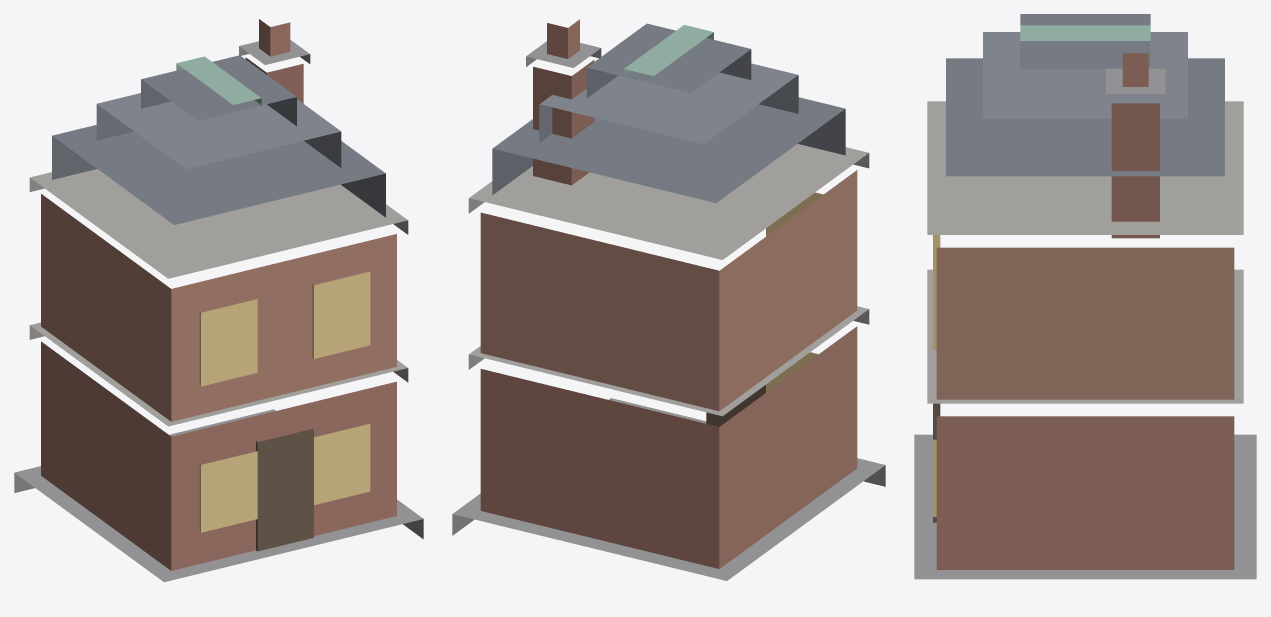
Rendered from house_2x2.glb.
The picture shows the model from 3 angles, left to right: view 1: azimuth 30°, elevation 25°; view 2: azimuth 150°, elevation 25°; view 3: azimuth 270°, elevation 25°; orthographic projection. The views are drawn at different scales.
Parts seen in each view (by area): view 1: Brick_Terracotta_Upper, Brick_Terracotta_Lower, Roof_SlateDark, Stone_Curb, Emissive_GasWindow, Roof_SlateMid, Stone_Plinth, Timber_DarkOak, Metal_VerdigrisCopper, Brick_Chimney; view 2: Brick_Terracotta_Lower, Brick_Terracotta_Upper, Roof_SlateDark, Stone_Curb, Roof_SlateMid, Stone_Plinth, Brick_Chimney, Metal_VerdigrisCopper, Emissive_GasWindow, Timber_DarkOak; view 3: Brick_Terracotta_Lower, Brick_Terracotta_Upper, Stone_Curb, Roof_SlateDark, Roof_SlateMid, Stone_Plinth, Brick_Chimney, Metal_VerdigrisCopper, Emissive_GasWindow.
Part boxes in pixels (x1,y1,x2,y2): Brick_Terracotta_Upper: (41,194,396,421); Brick_Terracotta_Lower: (41,19,396,570); Roof_SlateDark: (52,55,385,224); Stone_Curb: (29,169,408,426); Emissive_GasWindow: (199,271,370,532); Roof_SlateMid: (96,93,341,169); Stone_Plinth: (14,40,423,582); Timber_DarkOak: (256,428,313,551); Metal_VerdigrisCopper: (176,56,261,105); Brick_Chimney: (245,57,303,103); Brick_Terracotta_Lower: (480,19,857,568); Brick_Terracotta_Upper: (480,170,857,411); Roof_SlateDark: (492,23,845,202); Stone_Curb: (468,144,869,416); Roof_SlateMid: (539,63,798,144); Stone_Plinth: (452,41,885,580); Brick_Chimney: (533,60,594,185); Metal_VerdigrisCopper: (624,25,713,76); Emissive_GasWindow: (766,192,823,392); Timber_DarkOak: (706,385,765,426); Brick_Terracotta_Lower: (936,53,1234,569); Brick_Terracotta_Upper: (936,247,1234,399); Stone_Curb: (927,101,1243,403); Roof_SlateDark: (946,14,1224,176); Roof_SlateMid: (983,32,1187,118); Stone_Plinth: (914,68,1256,579); Brick_Chimney: (1111,103,1159,238); Metal_VerdigrisCopper: (1020,25,1150,40); Emissive_GasWindow: (933,235,940,516).
Size of the model in its own units: 1.84 by 3.12 by 1.84.
